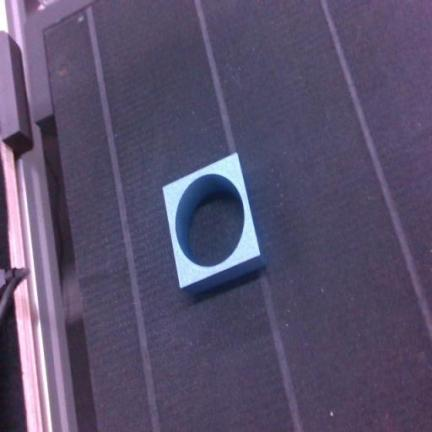square: (163, 154, 264, 292)
